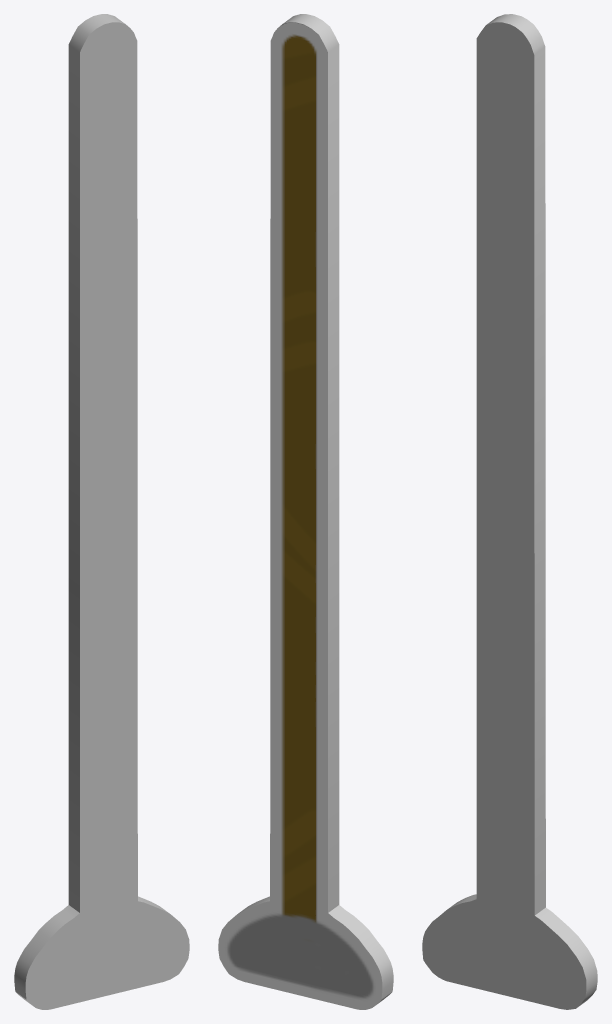
The model's file is flagpole.fbx.
The picture shows the model from 3 angles, left to right: view 1: azimuth 30°, elevation 25°; view 2: azimuth 150°, elevation 25°; view 3: azimuth 330°, elevation 25°; orthographic projection.
Parts seen in each view (by area): view 1: flagpole; view 2: flagpole; view 3: flagpole.
Part boxes in pixels (left/top/right/bottom): flagpole: left=14, top=14, right=189, bottom=1009; flagpole: left=218, top=14, right=393, bottom=1009; flagpole: left=422, top=14, right=597, bottom=1009.
Bounding box in the file's own units: 65.86 × 373 × 7.77.
